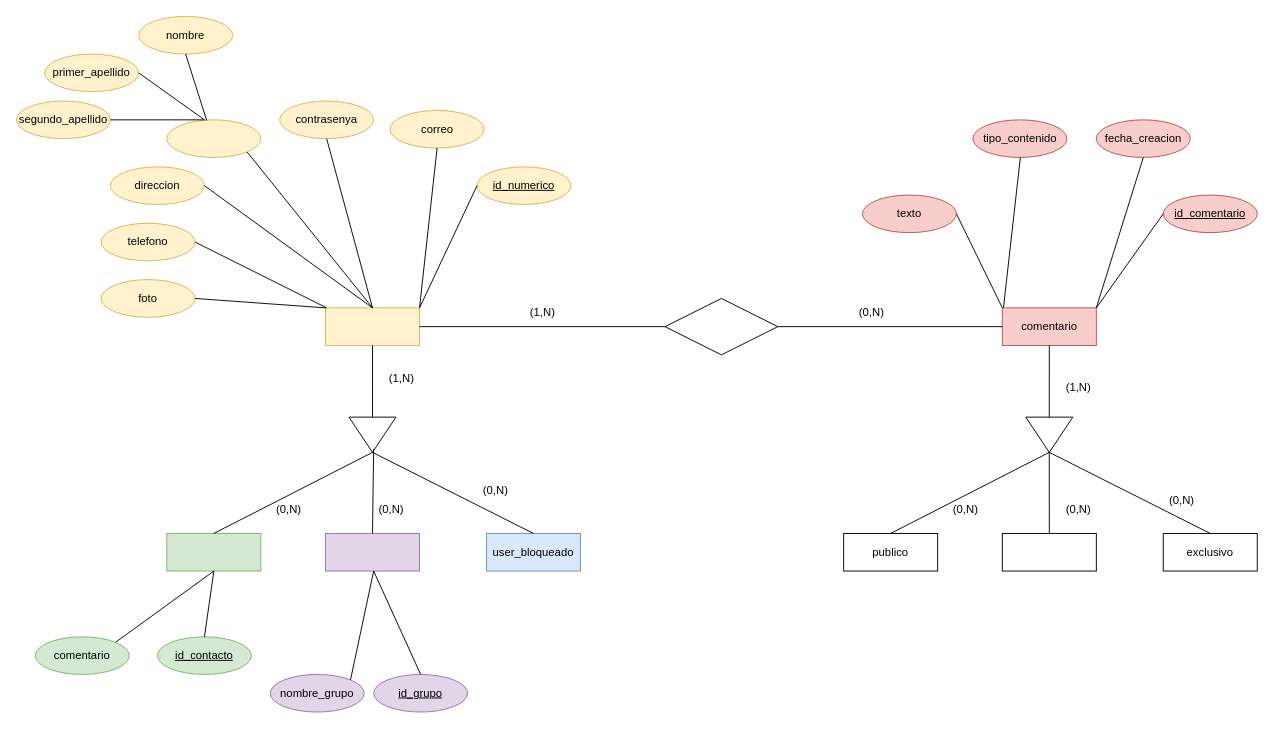
Some shapes in this 1274 by 729 pixel diagram are drawn without their labels. Each missing label, with the centre of its shape:
"contacto" goes at point (213, 552).
"grupo" goes at point (372, 552).
"hace" goes at point (721, 326).
"nombre_completo" goes at point (213, 138).
"restringido" goes at point (1048, 552).
"ususario" goes at point (372, 326).
